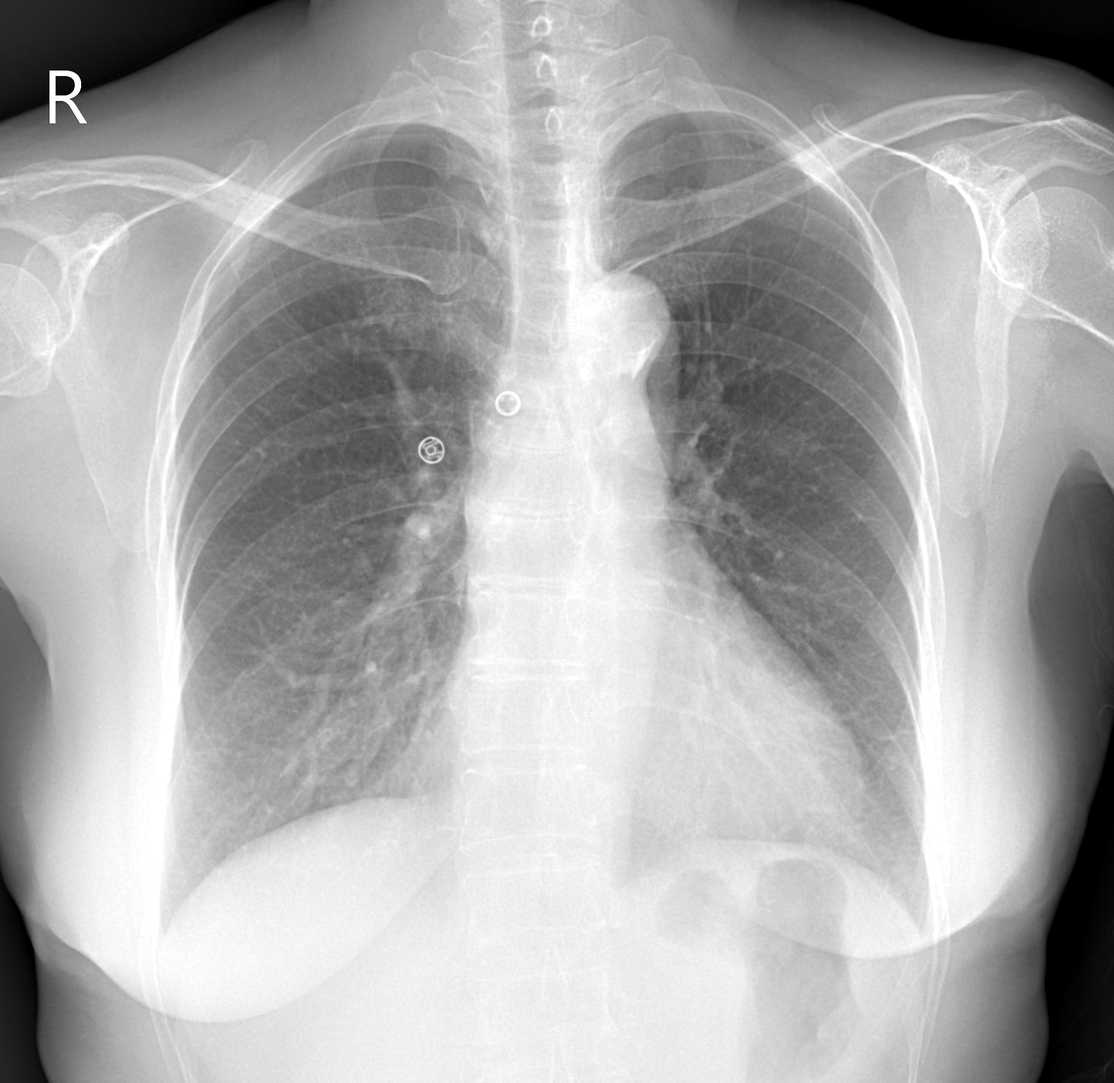Aortic enlargement: (558, 269, 674, 383)
Cardiomegaly: (417, 680, 875, 873)
